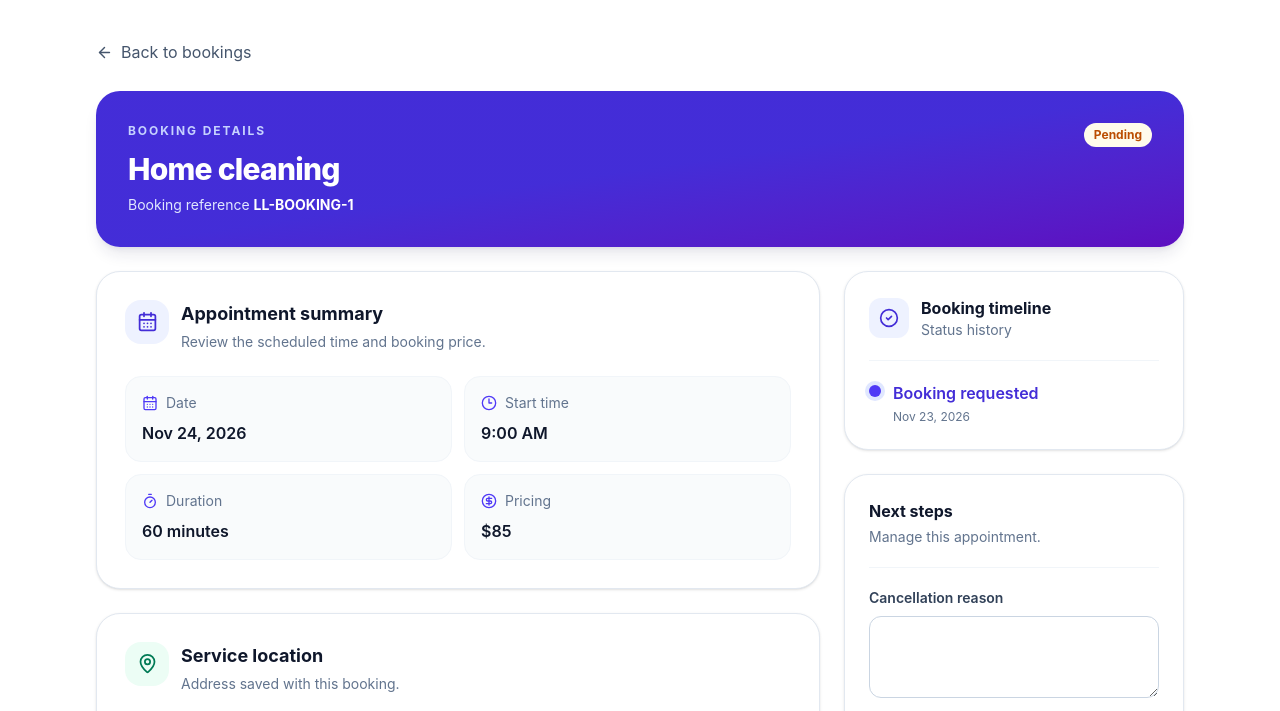
Test: BookingDetailsPage › keeps customer cancellation available and updates status after success
Type "Schedule changed" into the text box labelled "Cancellation reason" at (1014, 656), box [869,616,1159,698]
(page scrolled)
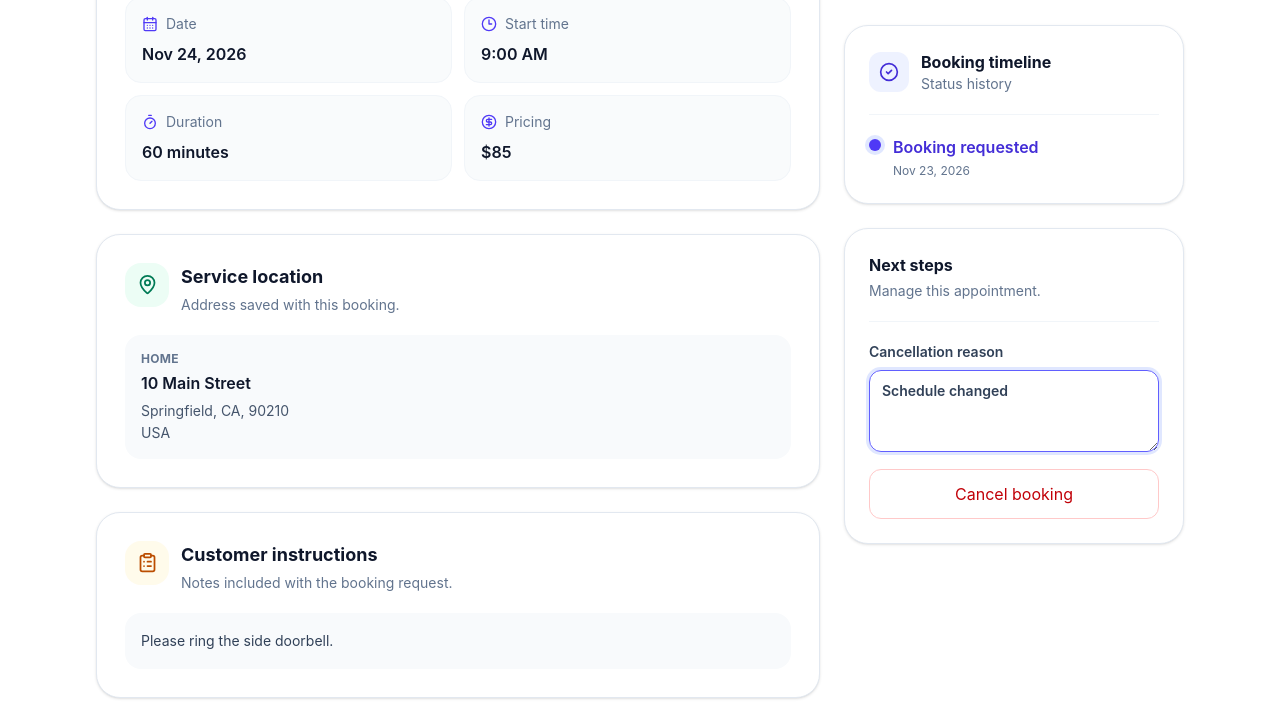
Click the button "Cancel booking" at (1014, 493), box [869,468,1159,518]
(page scrolled)
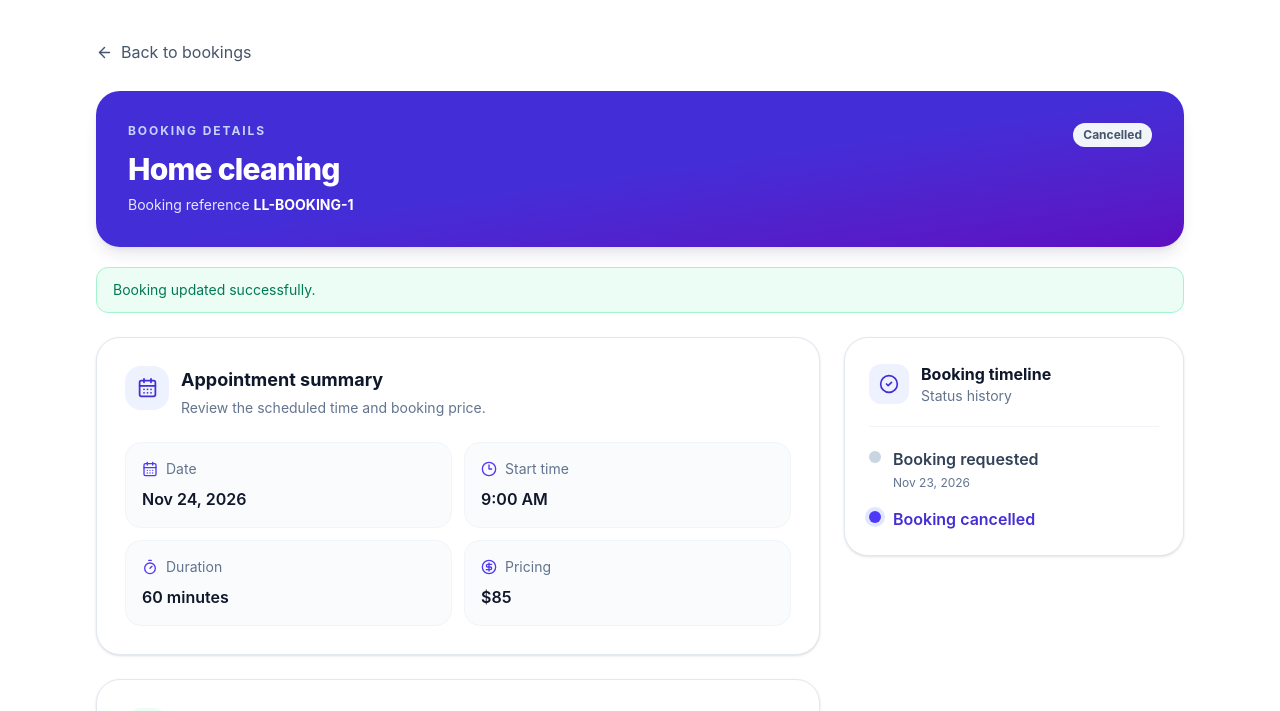
Expected: the text "Cancelled" is shown, [1073,122,1152,146]
